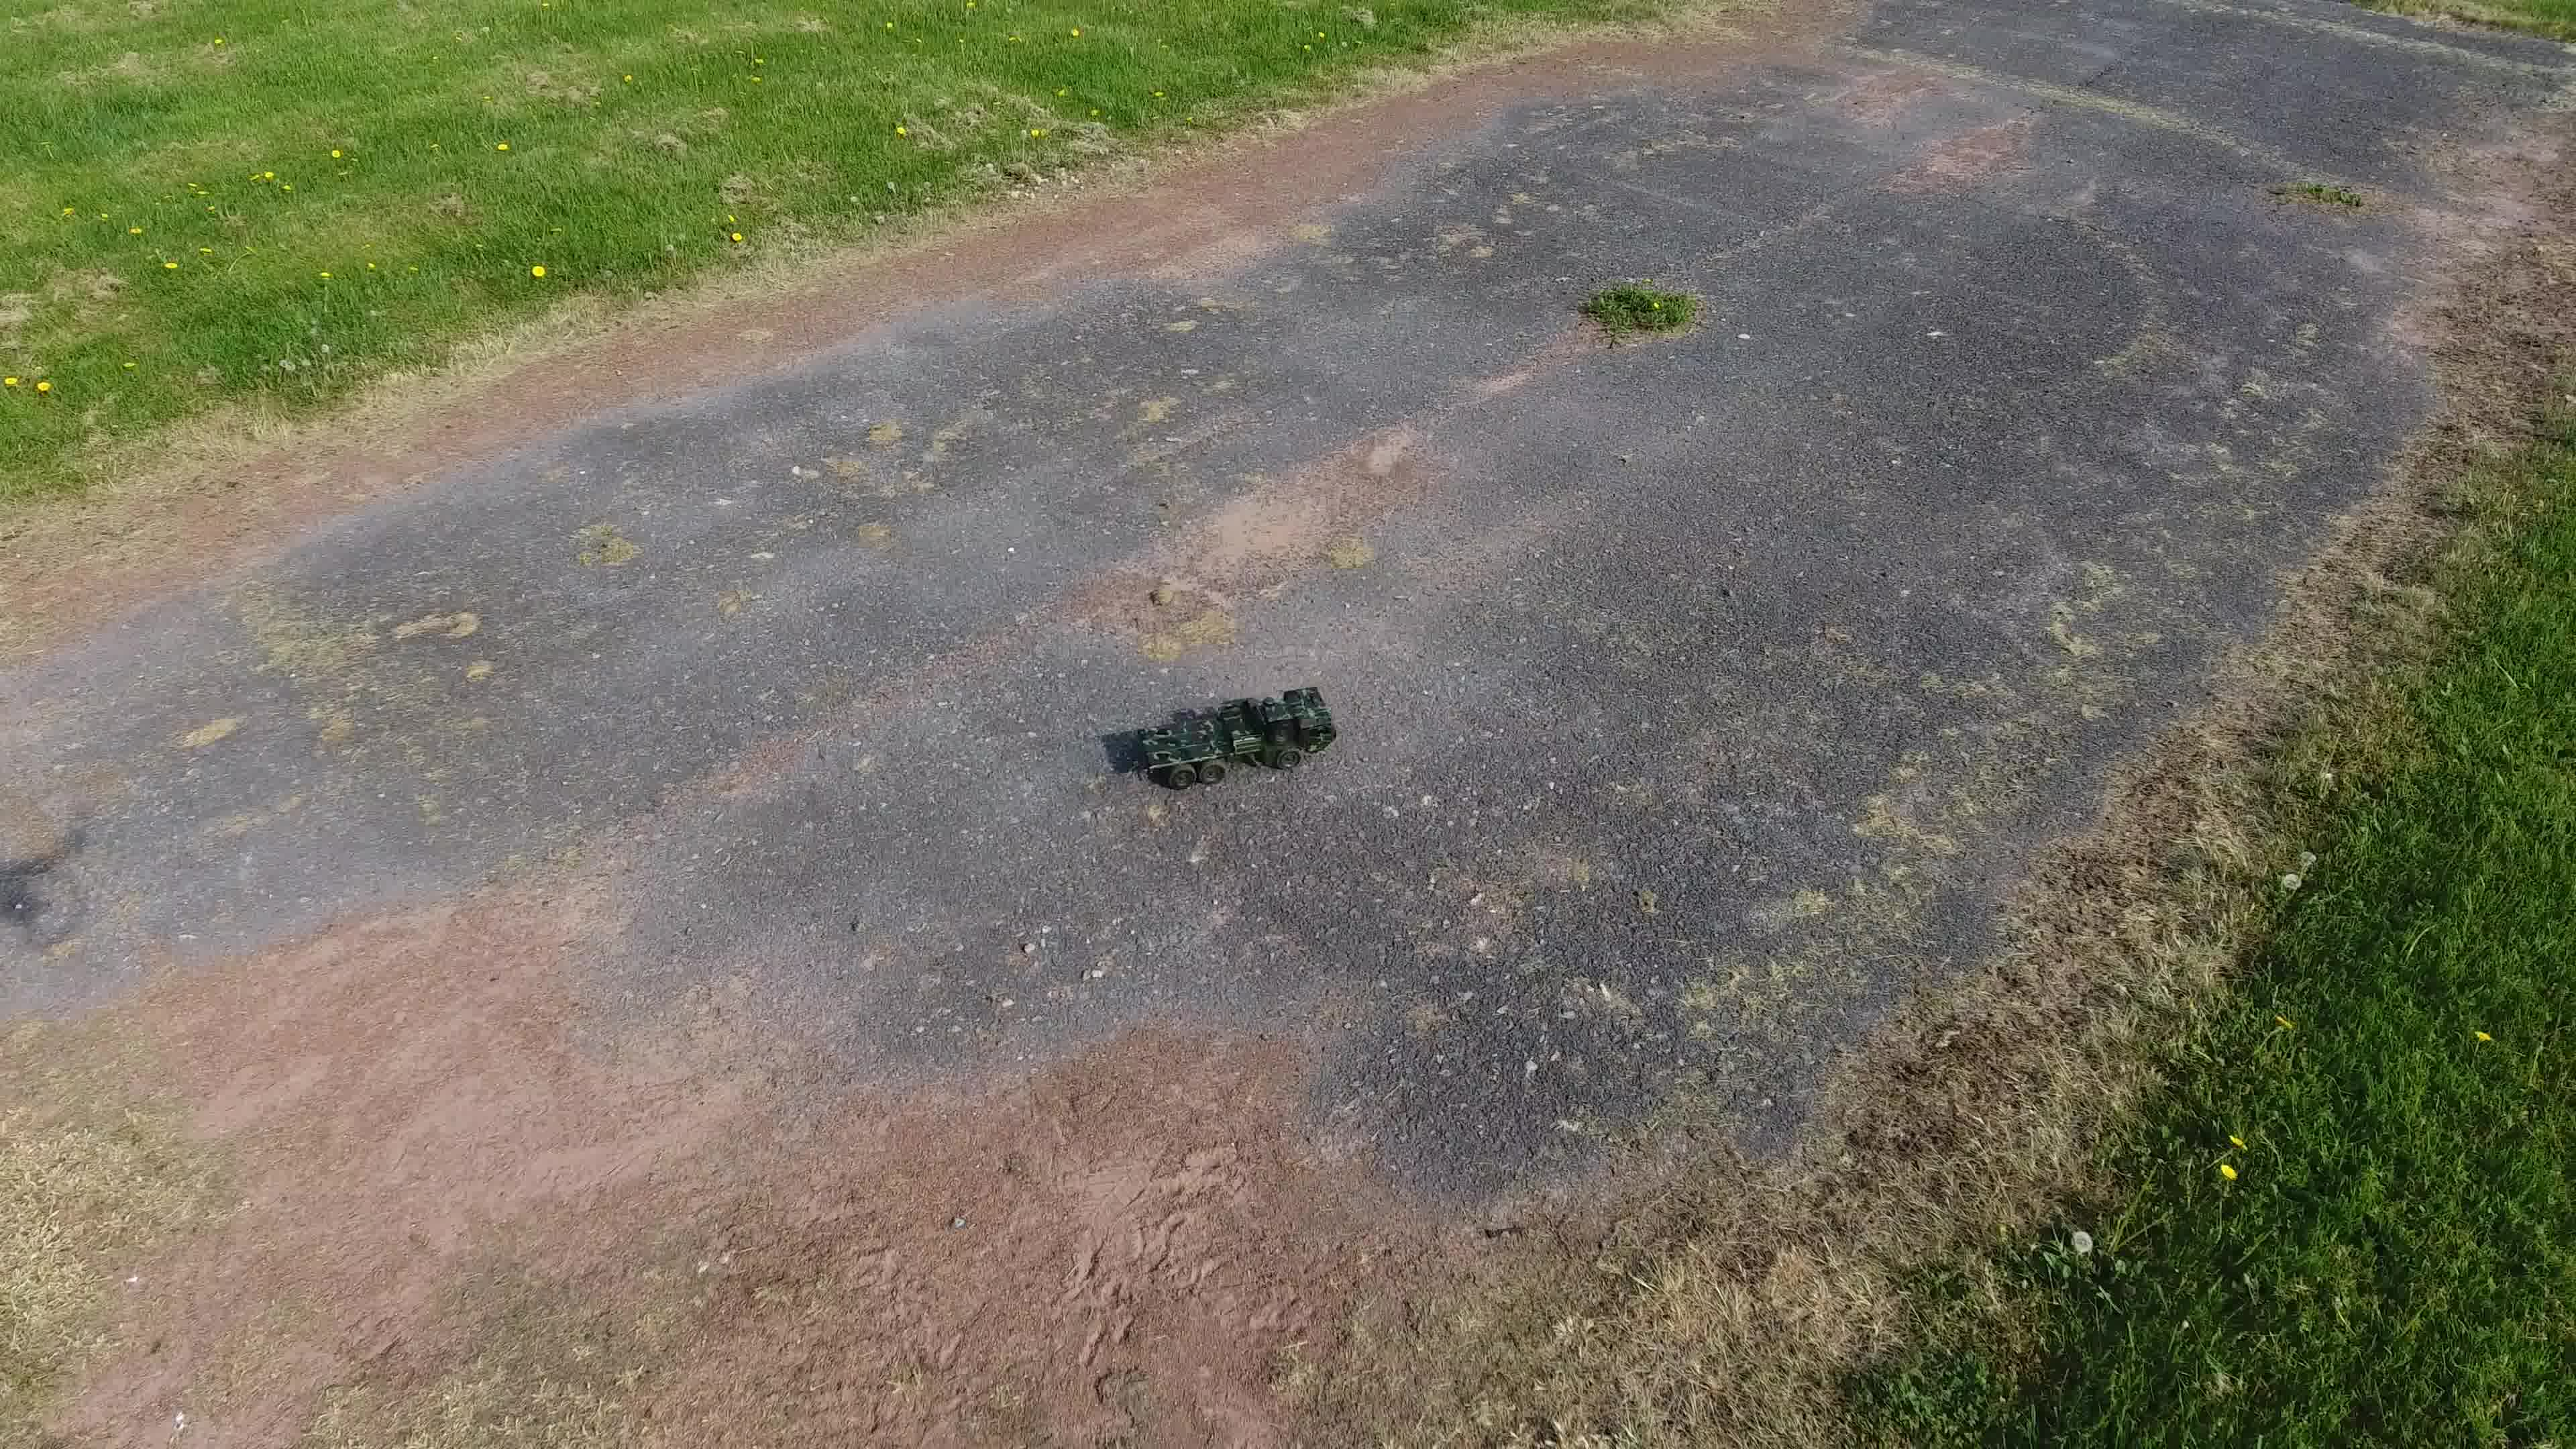transporter9_camo: (1134, 665, 1341, 794)
